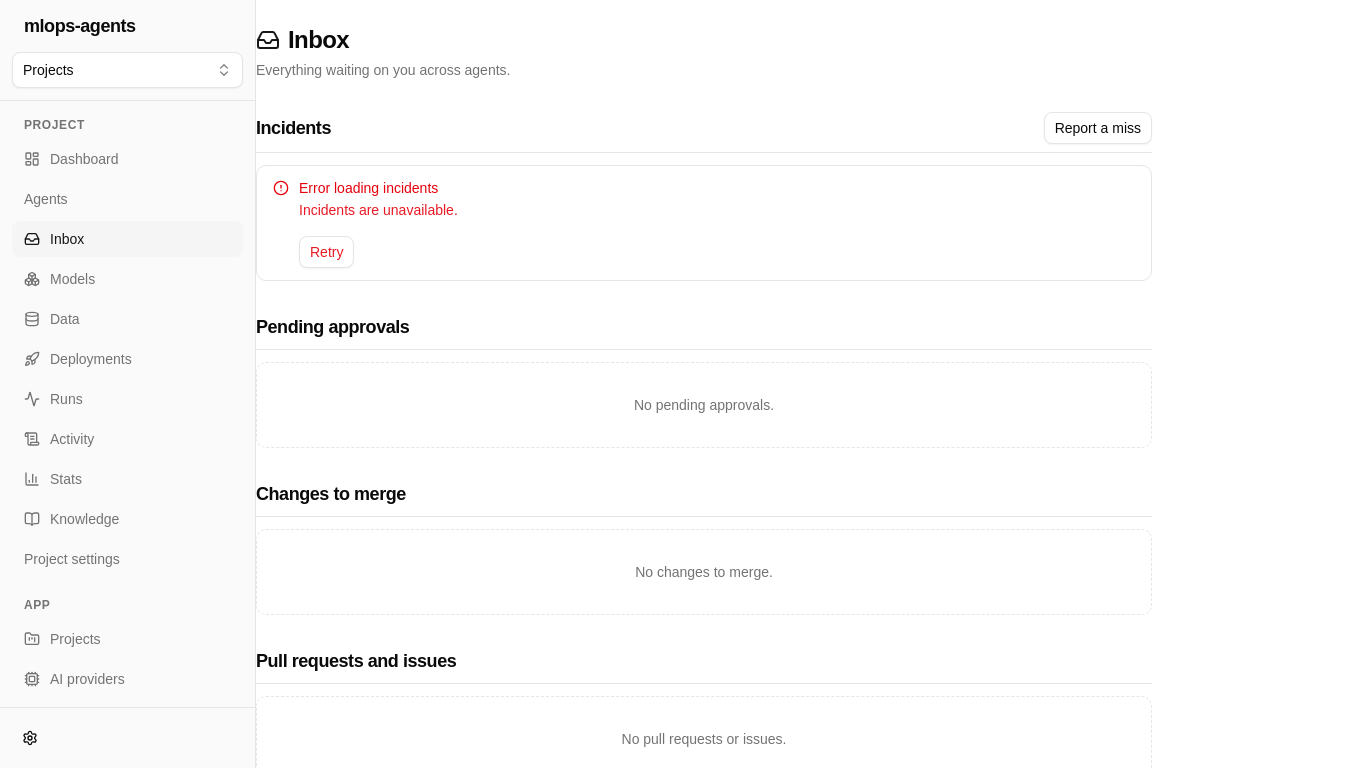
Test case: Inbox incidents section › shows an empty state and an error with a retry
Check: the text "Incidents are unavailable." is shown, box [299, 202, 458, 218]
Click the button "Retry".
click(327, 252)  # box [299, 236, 354, 268]
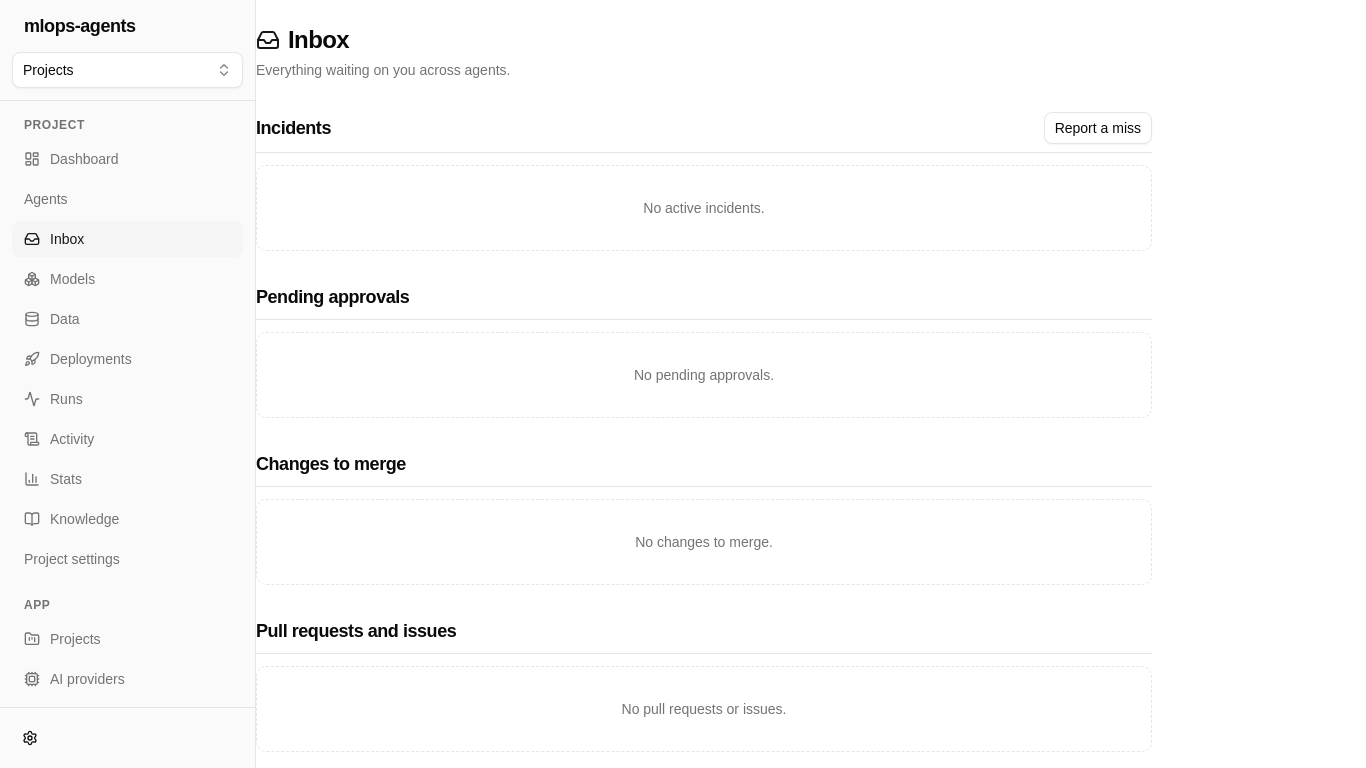
Check: the text "No active incidents." is shown, box [643, 200, 765, 216]
